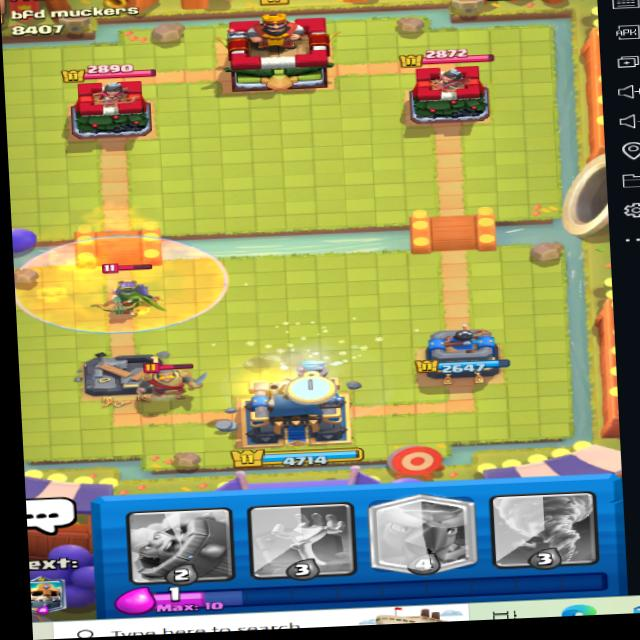archer-queen: (81, 259, 175, 332)
knight: (138, 354, 204, 407)
